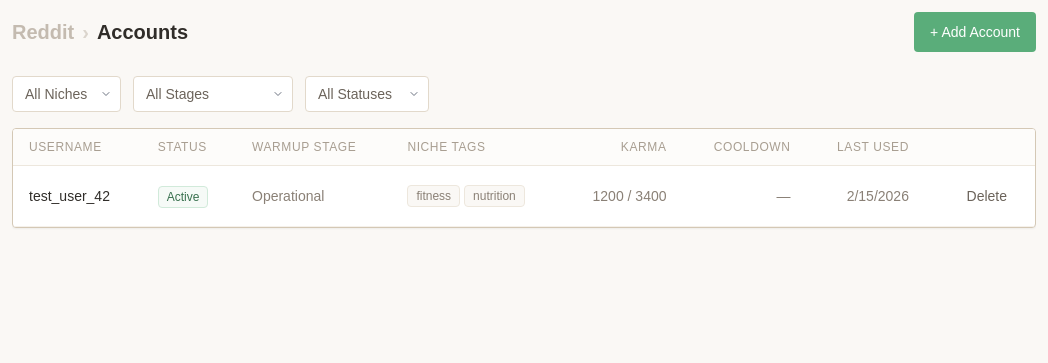
Test: RedditAccountsPage › empty state › renders empty filter results state when filters match nothing
The image size is (1048, 363).
Note: Apply a filter to get the empty filter state
Select "Banned" in the 3rd dropdown at [367, 94], box [305,76,429,112]
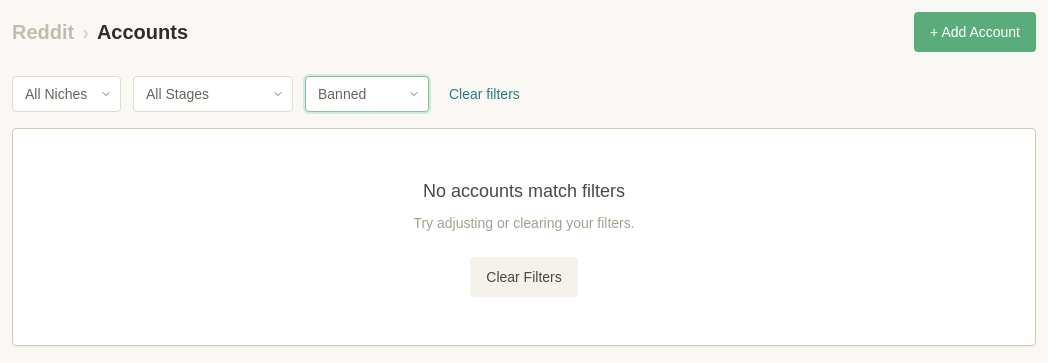
Expected: the heading "No accounts match filters" is shown, [423,177,625,205]
